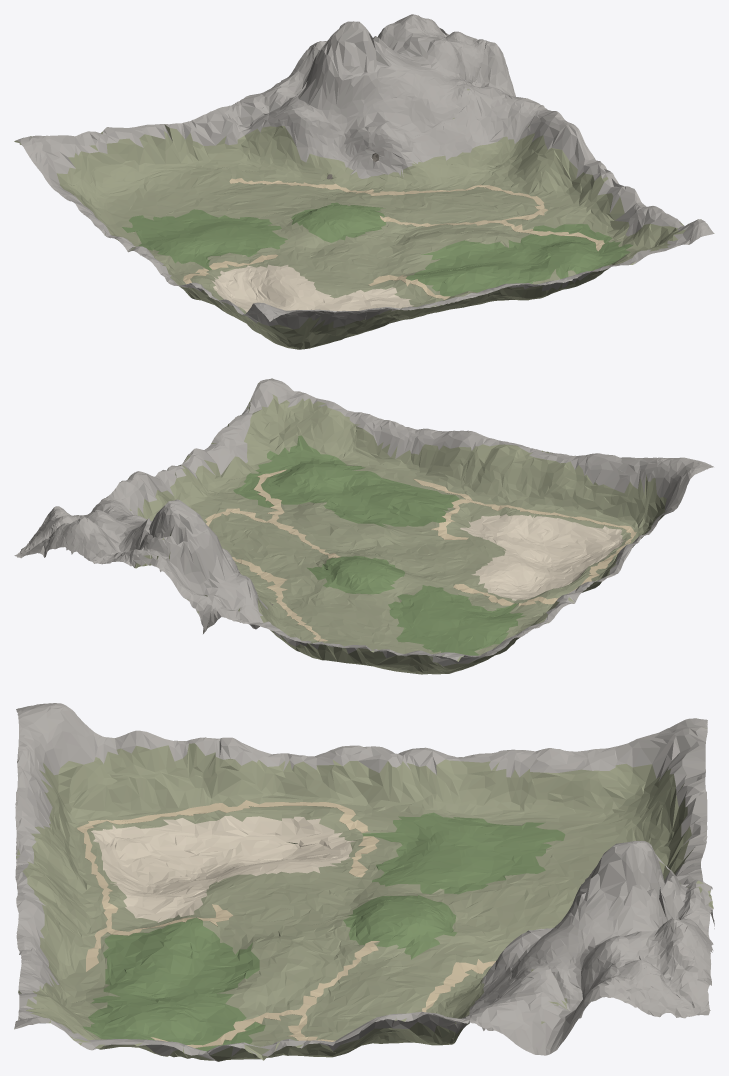
File: terrain_mat.fbx
The picture shows the model from 3 angles, top to bottom: view 1: azimuth 30°, elevation 25°; view 2: azimuth 150°, elevation 25°; view 3: azimuth 270°, elevation 25°; orthographic projection. The views are drawn at different scales.
Parts seen in each view (by area): view 1: pPlatonic2; view 2: pPlatonic2; view 3: pPlatonic2.
Part boxes in pixels (x1,y1,x2,y2): pPlatonic2: (14,14,714,349); pPlatonic2: (14,378,713,674); pPlatonic2: (14,703,714,1061).
Size of the model in its own units: 828 by 228 by 827.
